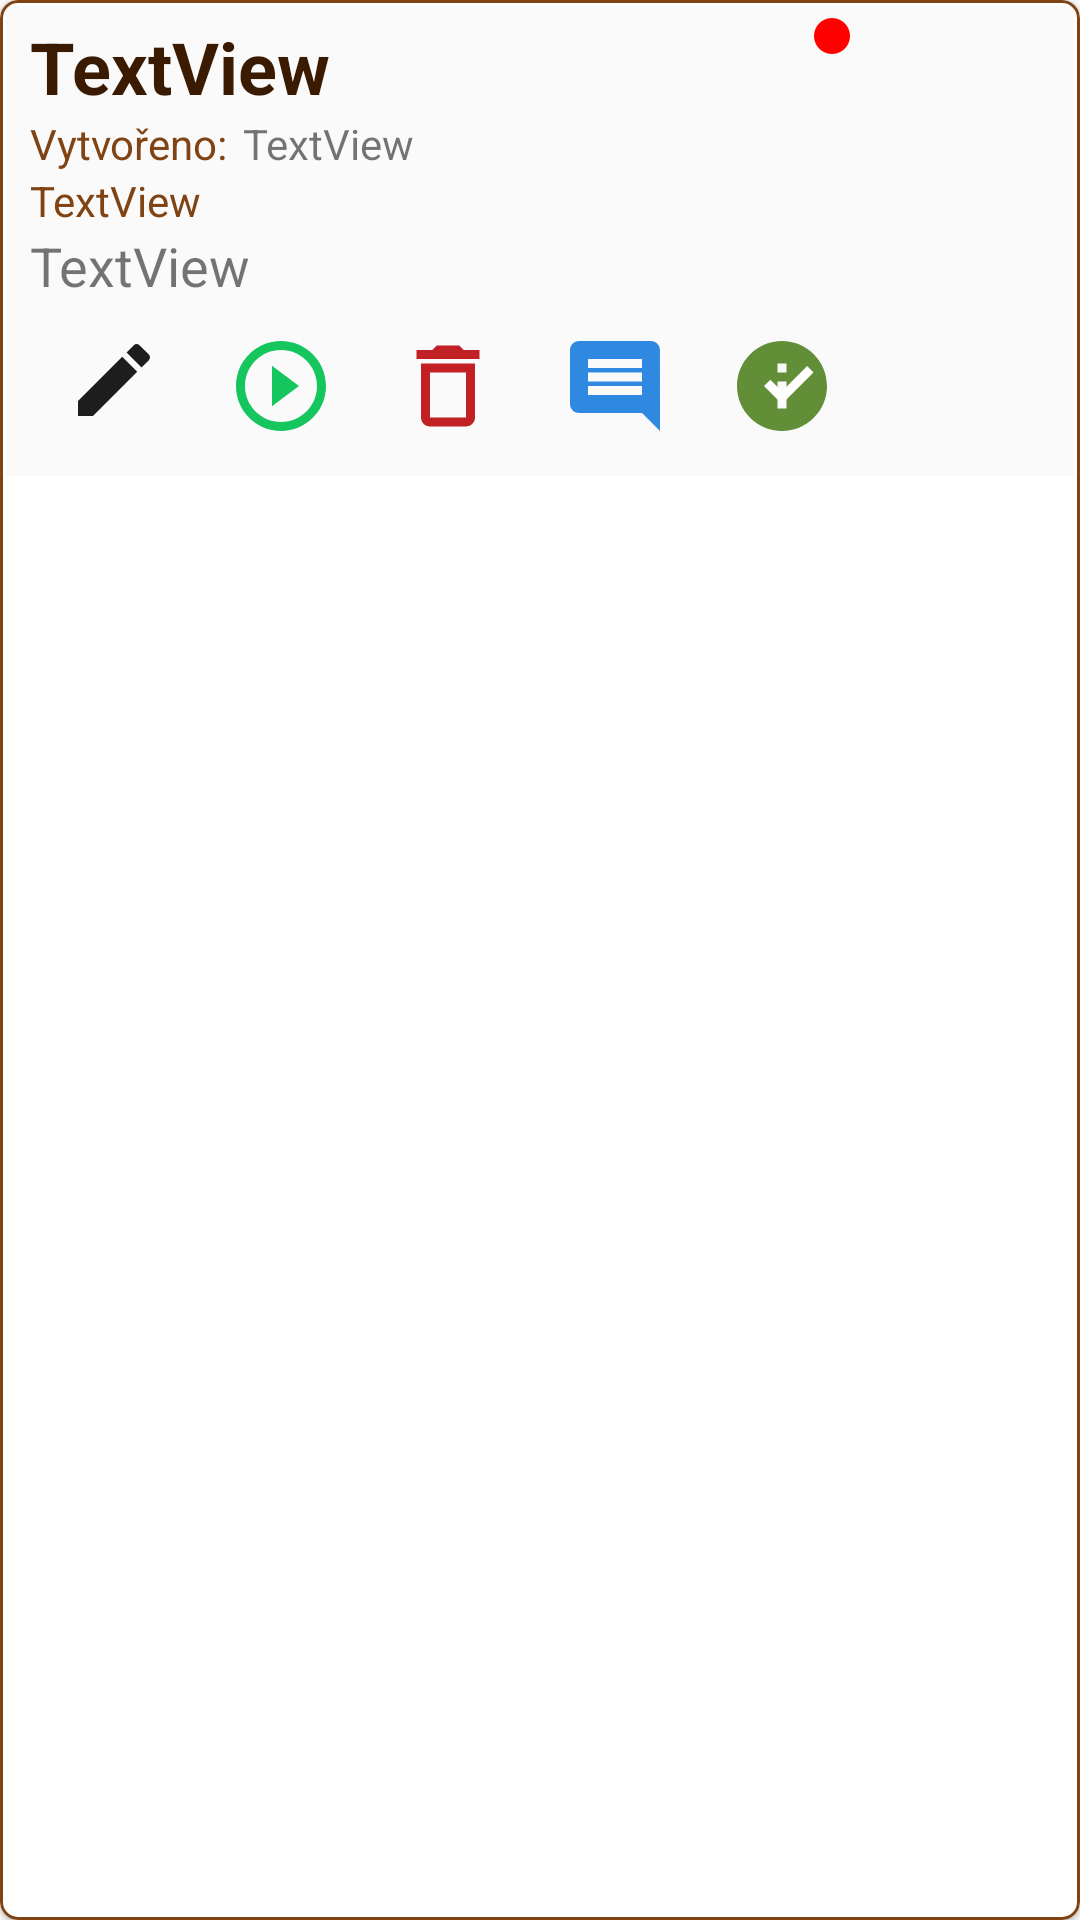

Screen size 1080px×1920px. Icon name, then its center in pixels as [x,y]:
comment: [615,386]
delete: [448,386]
edit: [114,380]
play circle: [281,386]
Změnit provozní status: [782,386]
